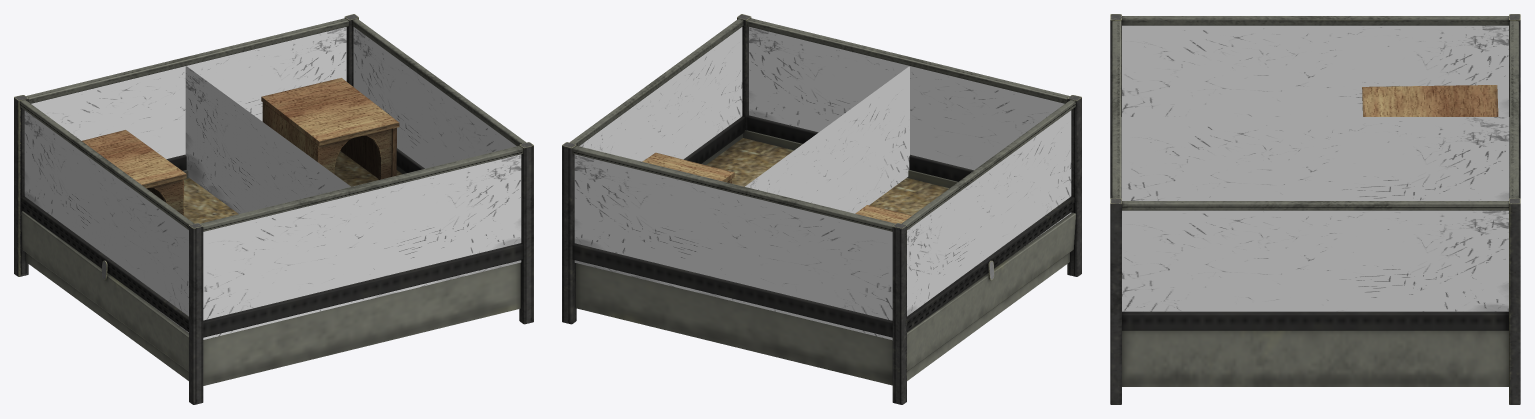
The model's file is Cage 02.fbx.
3 renders of one model, left to right at view 1: azimuth 30°, elevation 25°; view 2: azimuth 150°, elevation 25°; view 3: azimuth 270°, elevation 25°, orthographic. The views are drawn at different scales.
Visible parts, largest first — view 1: Glass5, cage_02; view 2: Glass5, cage_02; view 3: Glass5, cage_02.
Part boxes in pixels (left/top/right/bottom): Glass5: left=24, top=27, right=521, bottom=339; cage_02: left=14, top=14, right=533, bottom=404; Glass5: left=574, top=27, right=1071, bottom=340; cage_02: left=562, top=14, right=1081, bottom=404; Glass5: left=1121, top=25, right=1509, bottom=311; cage_02: left=1110, top=14, right=1520, bottom=404.
Bounding box in the file's own units: 241 × 119 × 221.
2 materials, 2 textured.
